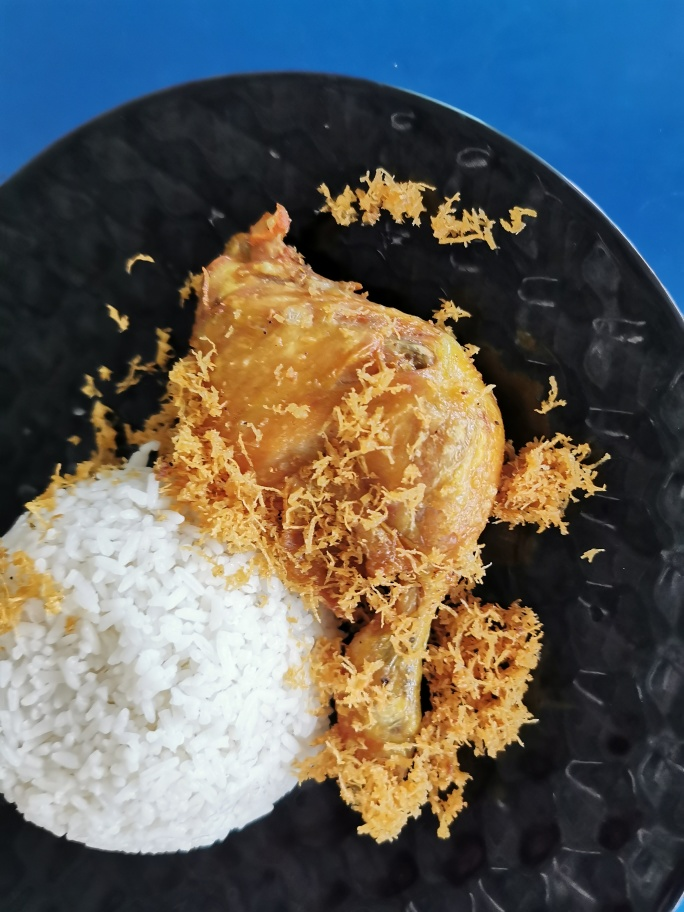ayam goreng: (134, 192, 564, 829)
nasi putih: (1, 480, 342, 873)
